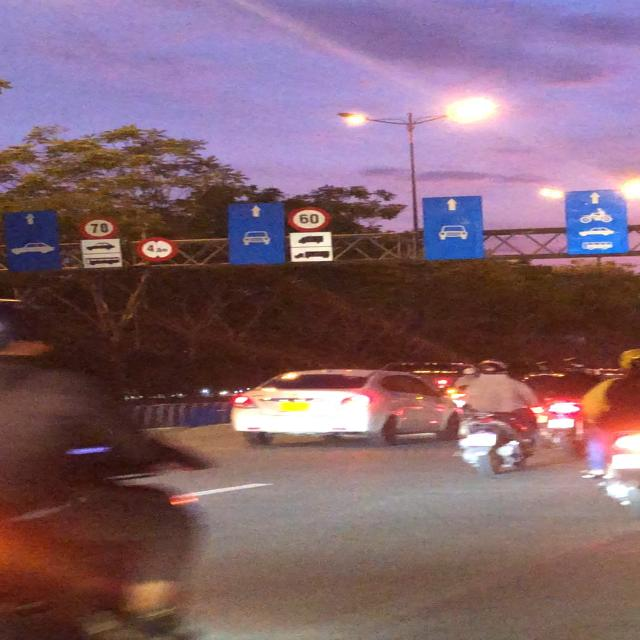Bien bao han che chieu cao: (130, 234, 180, 263)
Bien bao toc do toi da cho phep: (285, 204, 331, 234), (77, 213, 120, 241)
